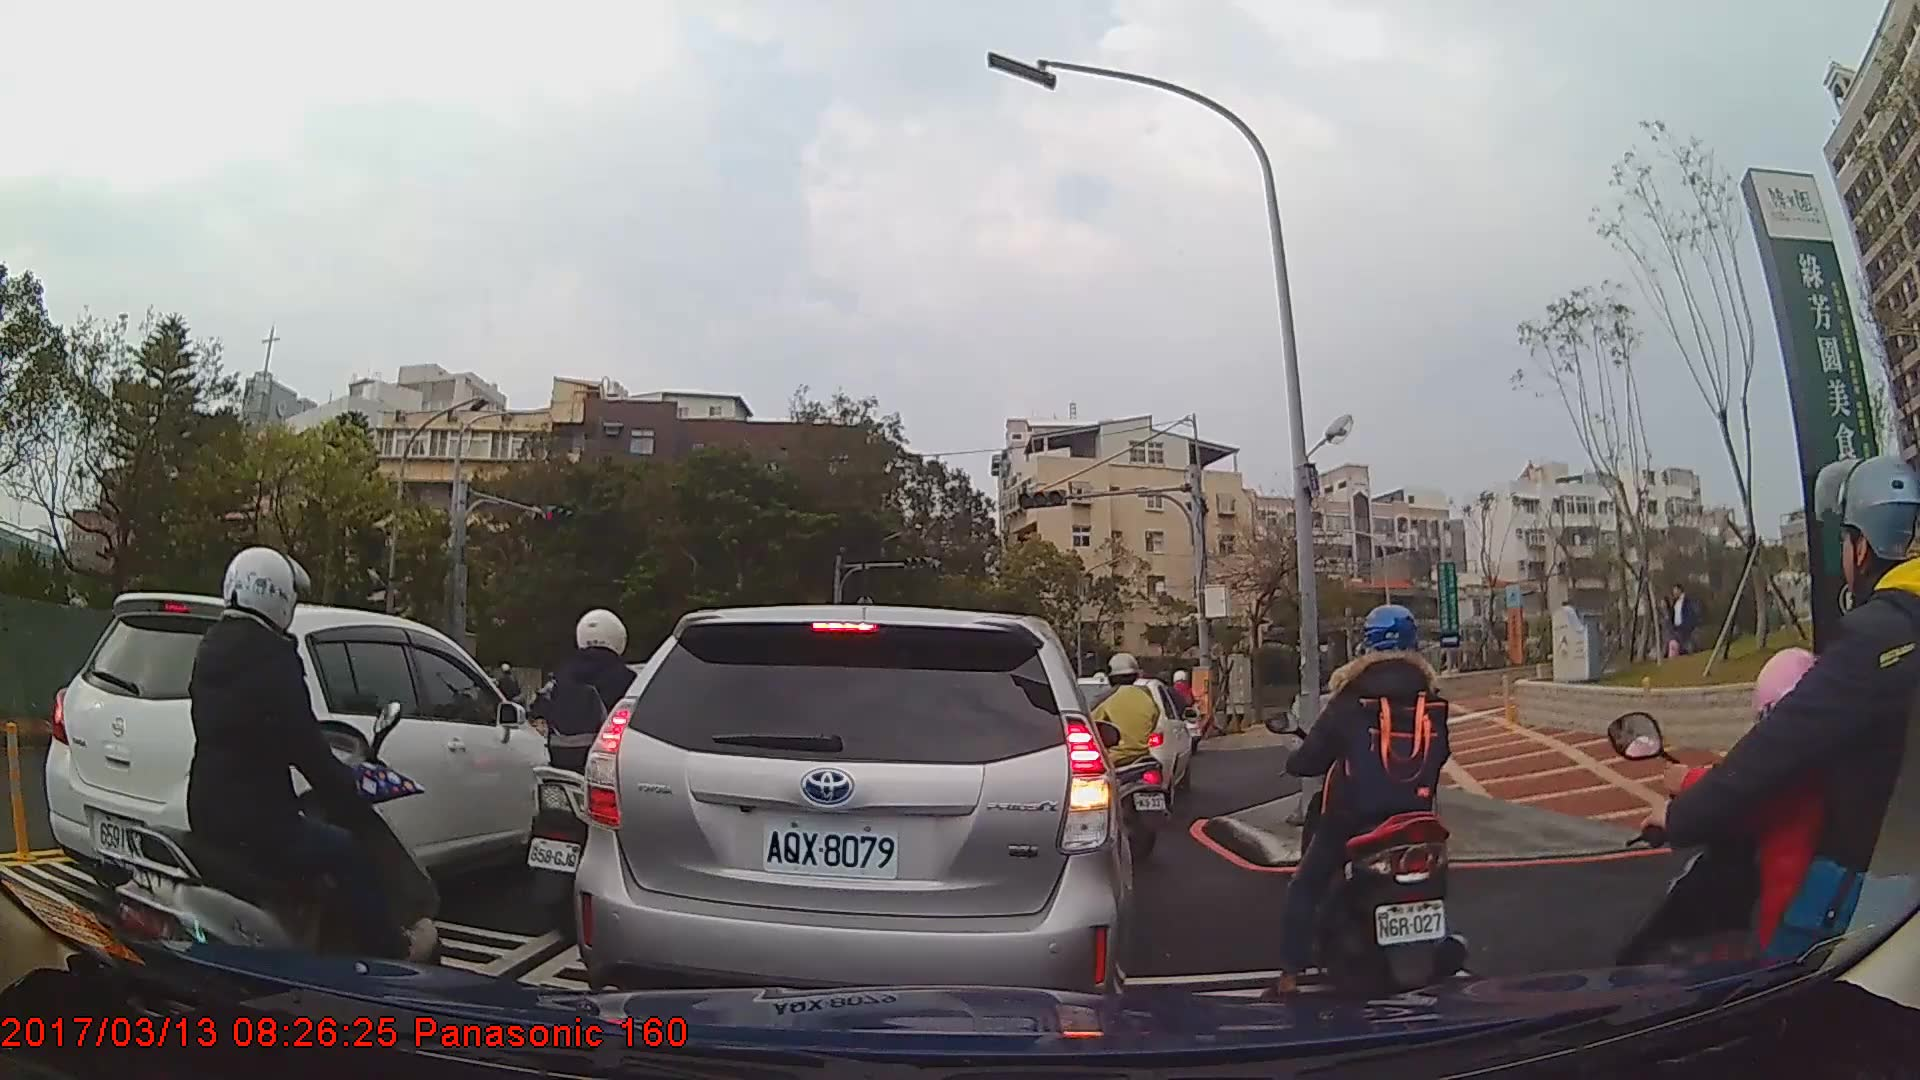pedestrian: (1642, 584, 1684, 676), (1658, 580, 1704, 664)
rider: (1604, 453, 1920, 1067), (117, 546, 449, 1001), (1255, 603, 1466, 1005), (521, 607, 685, 946), (1070, 649, 1173, 864), (1162, 665, 1206, 757)
vehicle: (571, 601, 1136, 1030), (44, 591, 569, 933)
